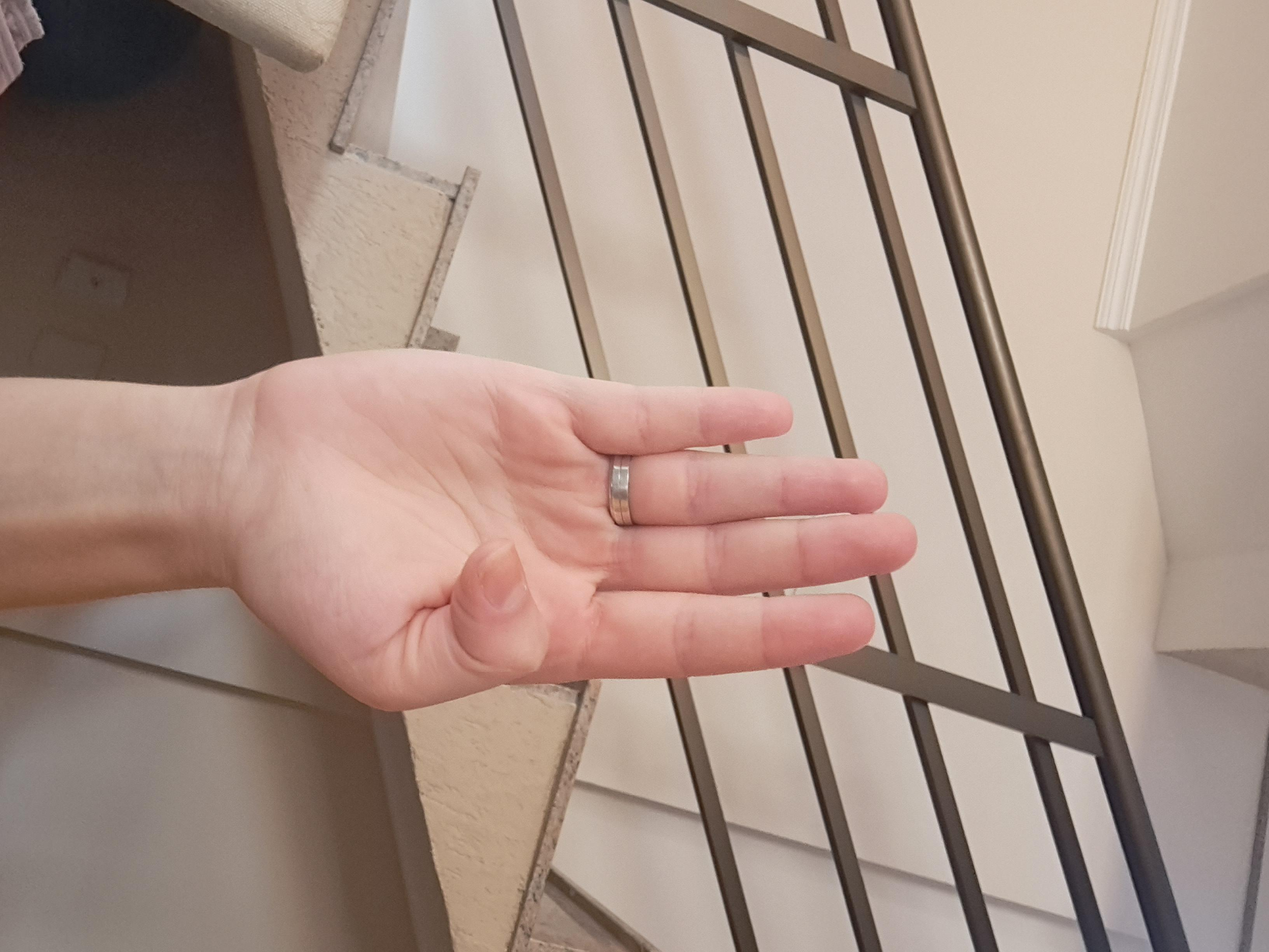B: (467, 254, 975, 773)
